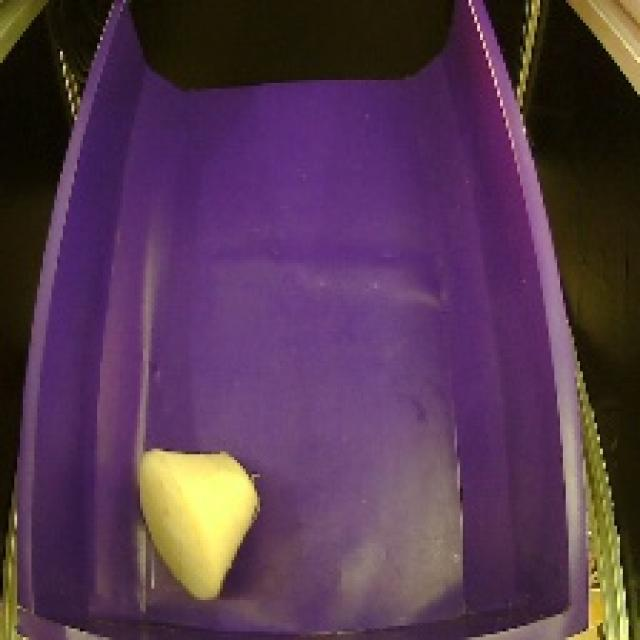white_radish: (132, 429, 275, 607)
